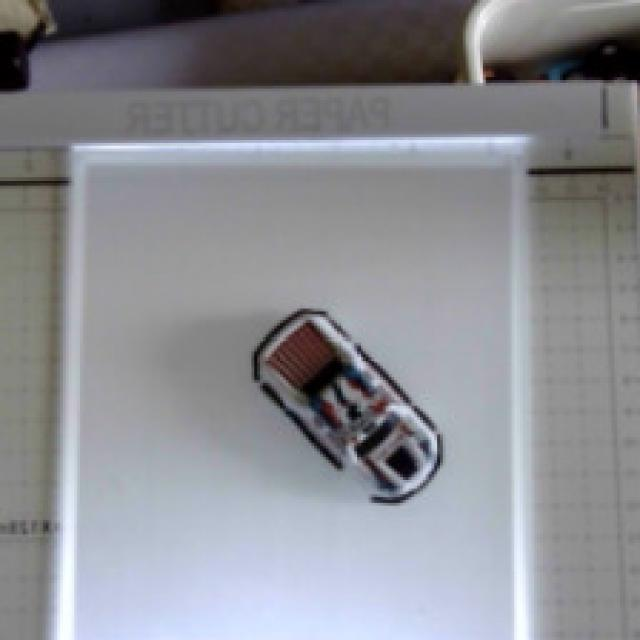Grey Car: (223, 281, 471, 524)
